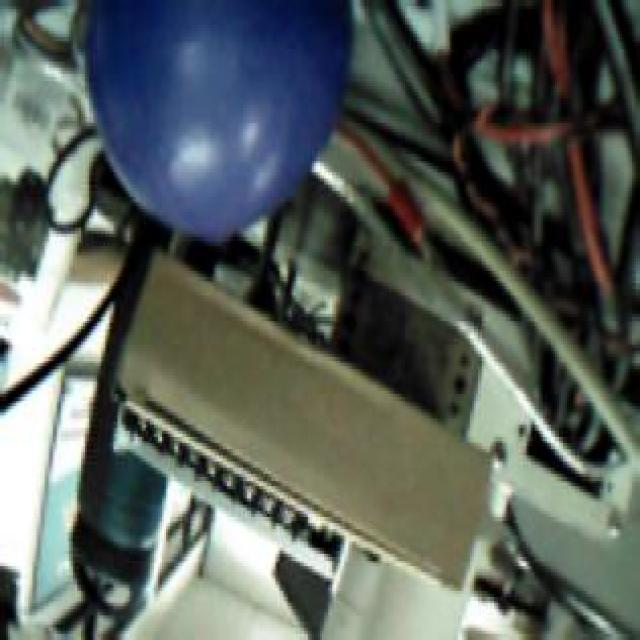BallPurple: (82, 0, 355, 238)
